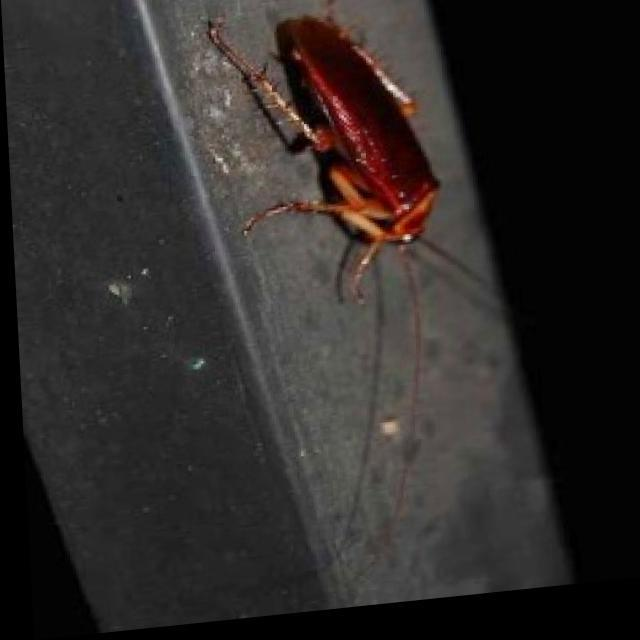cockroach: (272, 13, 444, 246)
